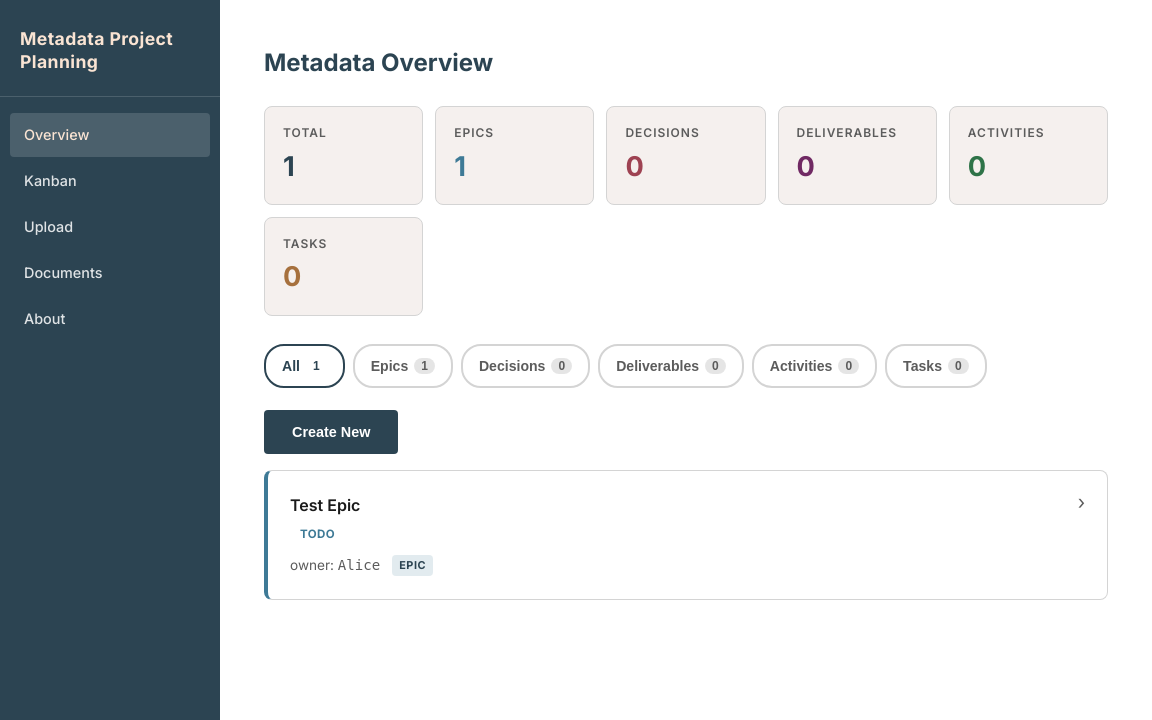
Test: Card Interactions › should display edit and delete buttons when card is expanded
What coordinates should you click on to do the following:
click the button "Test Epic › TODO owner: Alice EPIC"
I would click on:
 (325, 505)
Its box is x1=264 y1=470 x2=1108 y2=600.
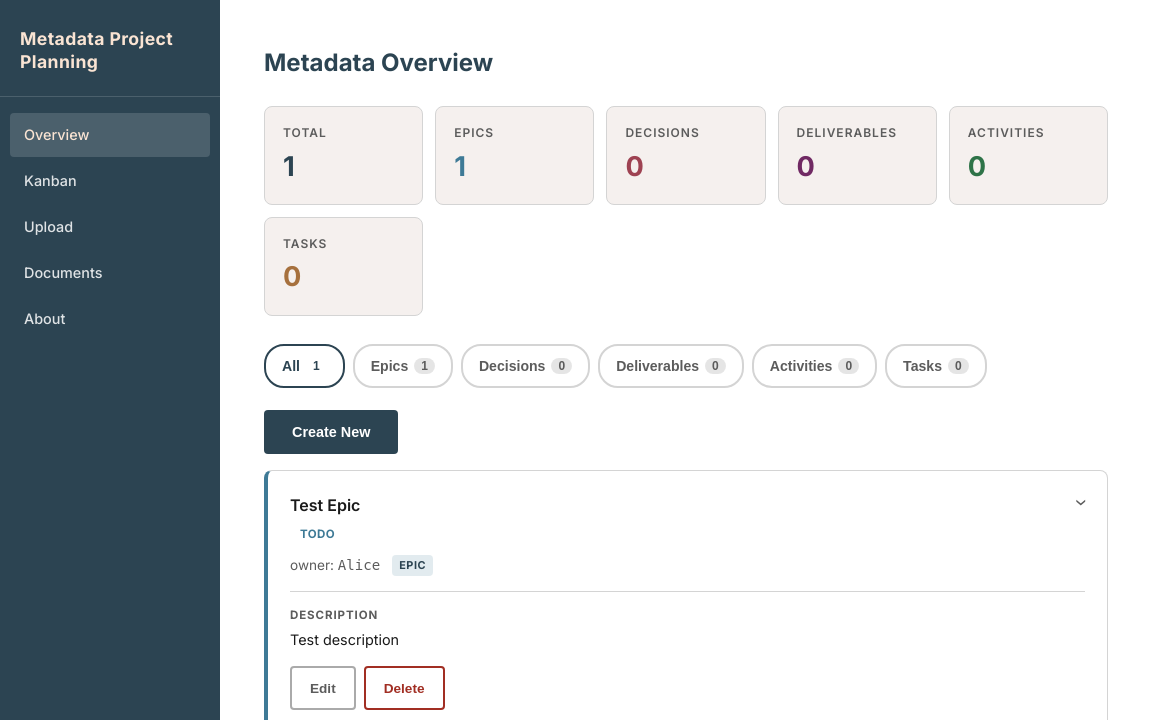
Check: the button "Edit" is shown, box x1=290 y1=666 x2=356 y2=710
Check: the button "Delete" is shown, box x1=364 y1=666 x2=444 y2=710
